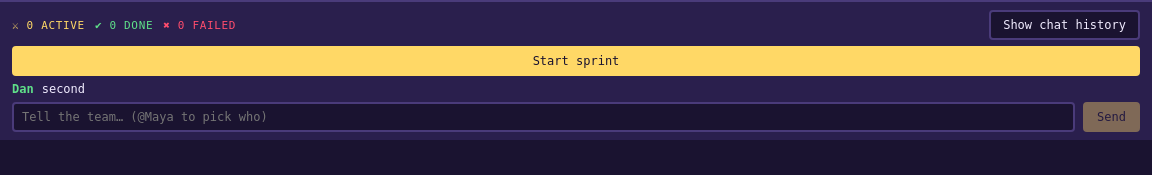
Hud › shows only the last line collapsed and everything expanded
Check: the text "first" is not shown
Check: the text "second" is shown, box left=42, top=82, right=85, bottom=96
What coordinates should you click on to do the following:
click the button "Show chat history"
I would click on:
 (1065, 25)
Its box is left=989, top=10, right=1140, bottom=40.
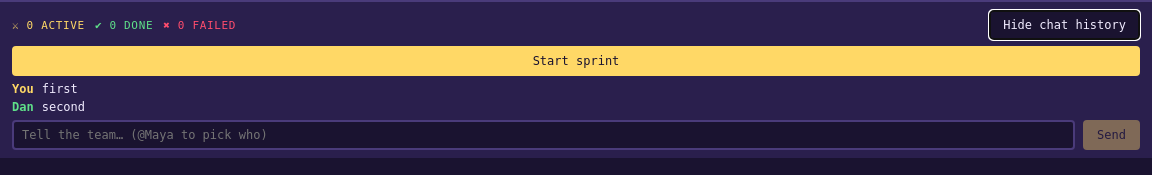
Check: the text "first" is shown, box left=42, top=82, right=78, bottom=96
